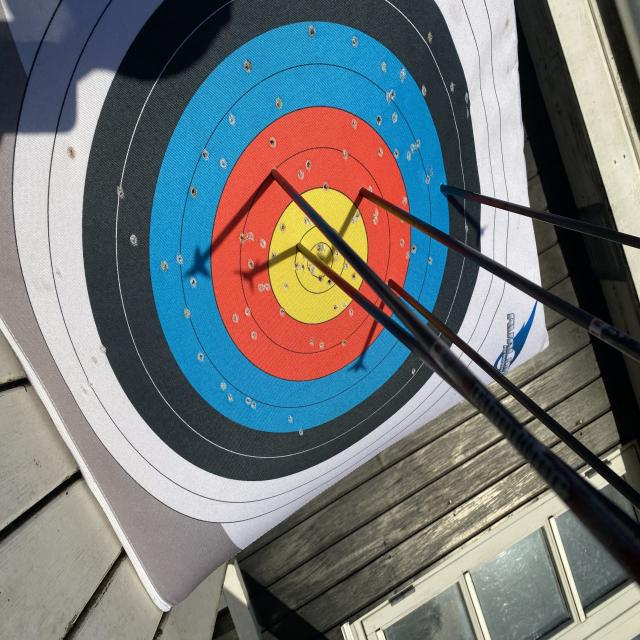Arrow_Blue: (432, 166, 456, 211)
Arrow_Red: (262, 143, 290, 203), (350, 168, 376, 214), (376, 262, 406, 300)
Arrow_Yellow: (286, 231, 320, 272)
